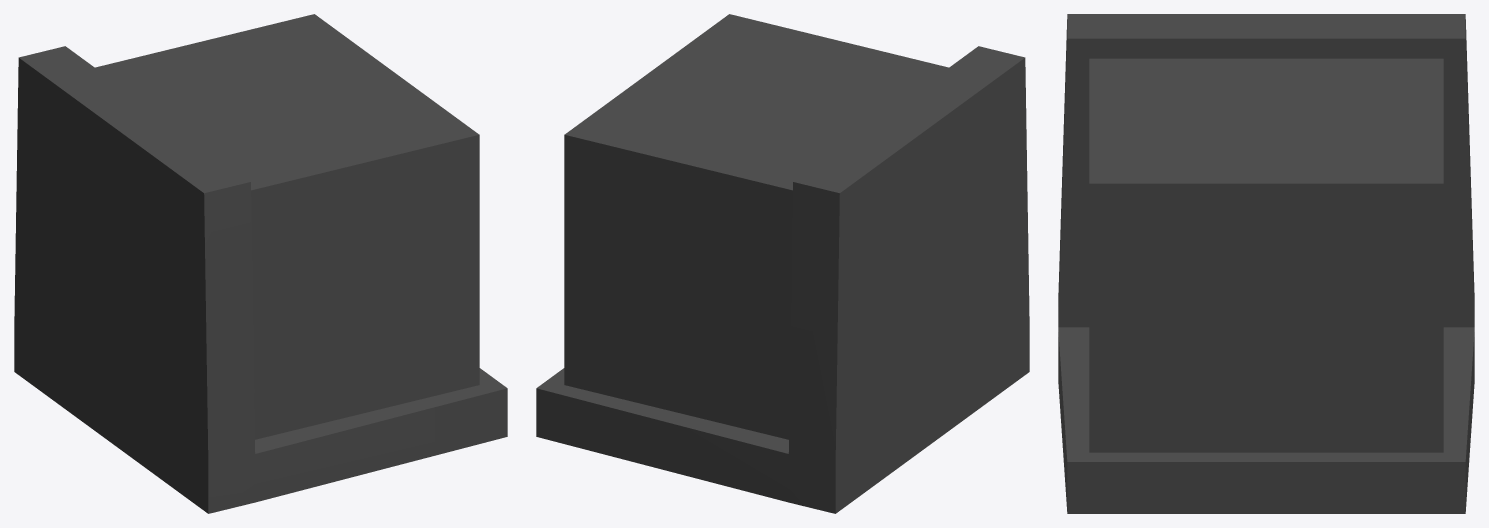
The model's file is Thor_Pauldron 1.FBX.
3 views of the same model, side by side, from view 1: azimuth 30°, elevation 25°; view 2: azimuth 150°, elevation 25°; view 3: azimuth 270°, elevation 25° (orthographic). The views are drawn at different scales.
Parts seen in each view (by area): view 1: Pauldron_Thor; view 2: Pauldron_Thor; view 3: Pauldron_Thor.
Boxes of the visible parts, bbox=[...] form: Pauldron_Thor: bbox=[14, 14, 507, 513]; Pauldron_Thor: bbox=[536, 14, 1029, 513]; Pauldron_Thor: bbox=[1058, 14, 1474, 513].
Size of the model in its own units: 6.12 by 6.78 by 6.12.
Materials: 1 (1 with a texture image).
